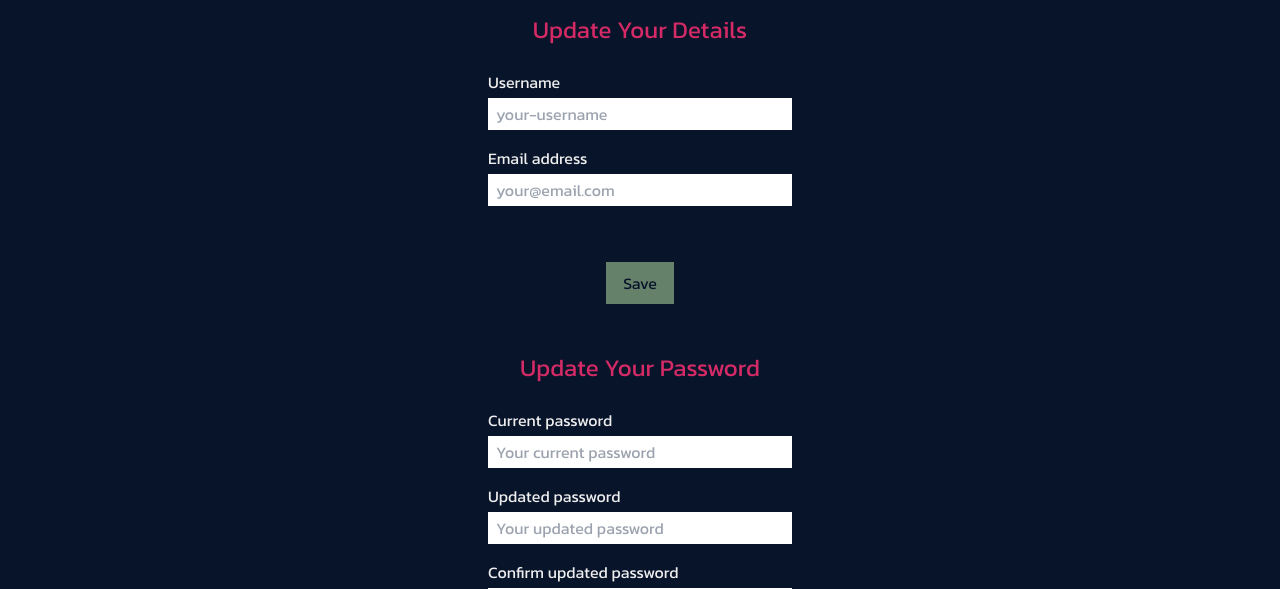
Scenario: Update password integration test: › On submit tests: › After rejected update tests: › It should show errors where updateUserPasswordById rejects
The width and height of the screenshot is (1280, 589).
Type "password12£" into the field titled "current password" at (640,452), box [488,436,792,468]
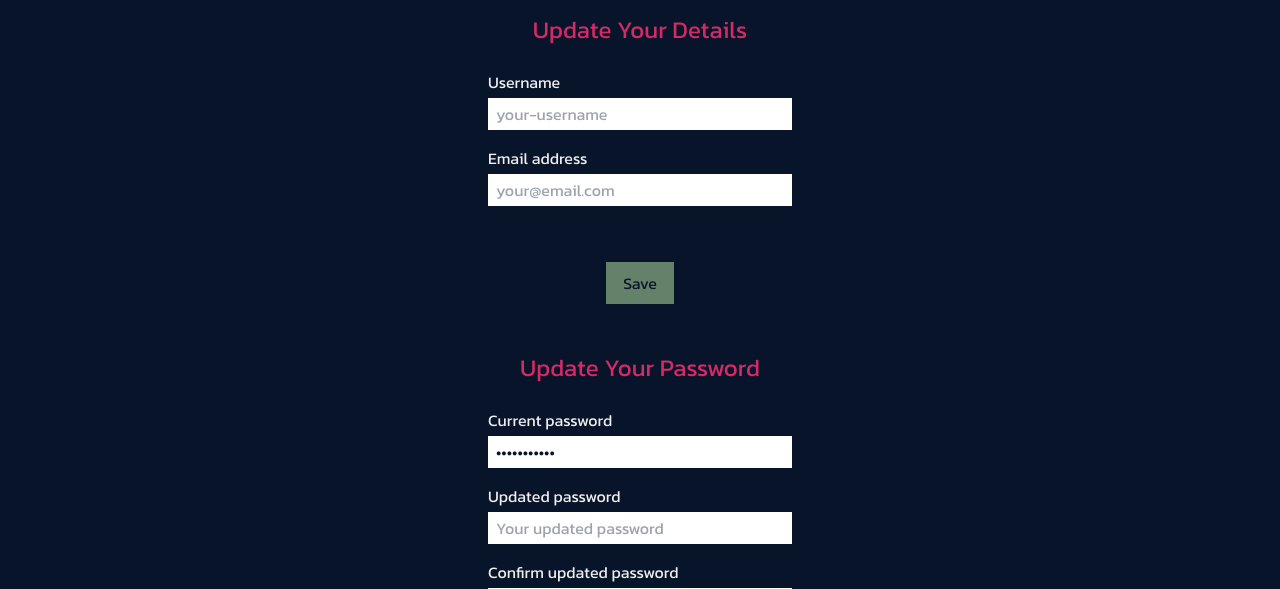
Type "password12£" into the field titled "updated password" at (640,528), box [488,512,792,544]
(page scrolled)
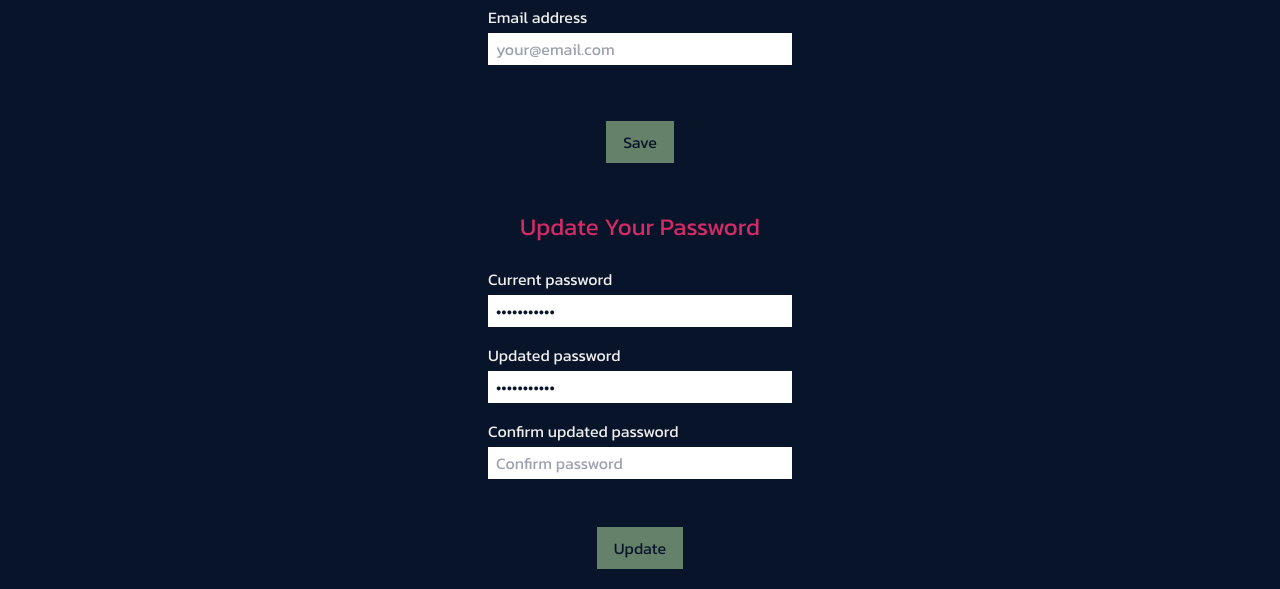
Type "password12£" into the field titled "confirm updated password" at (640,463), box [488,447,792,479]
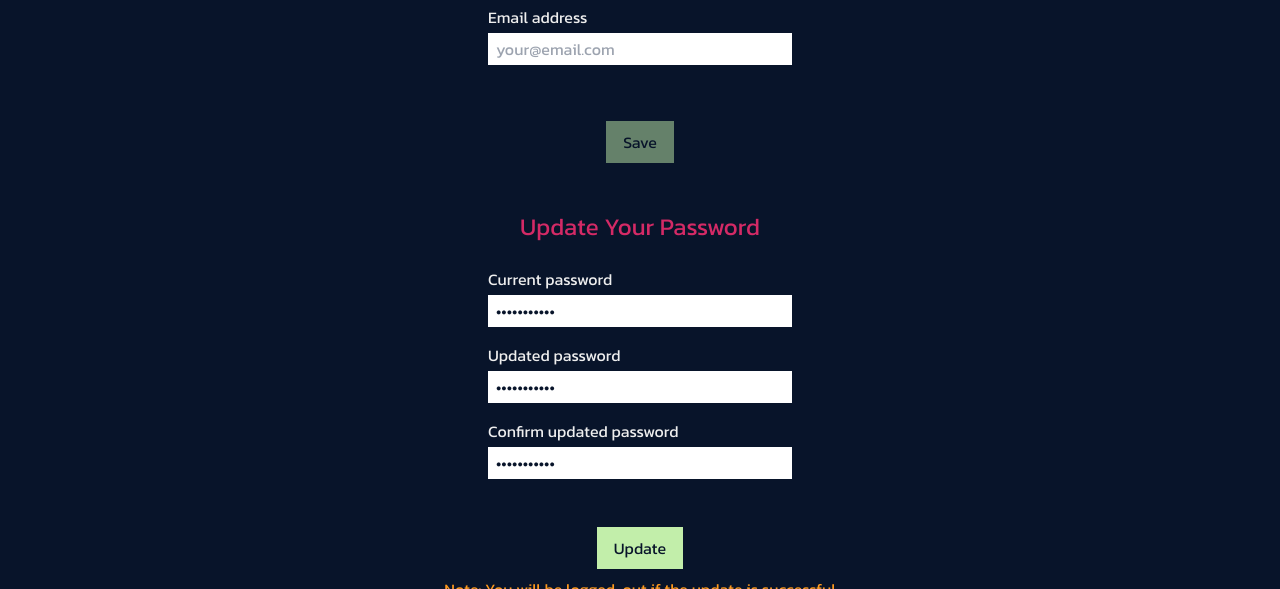
Click the button "Update" at (640,548), box [597,527,683,569]
(page scrolled)
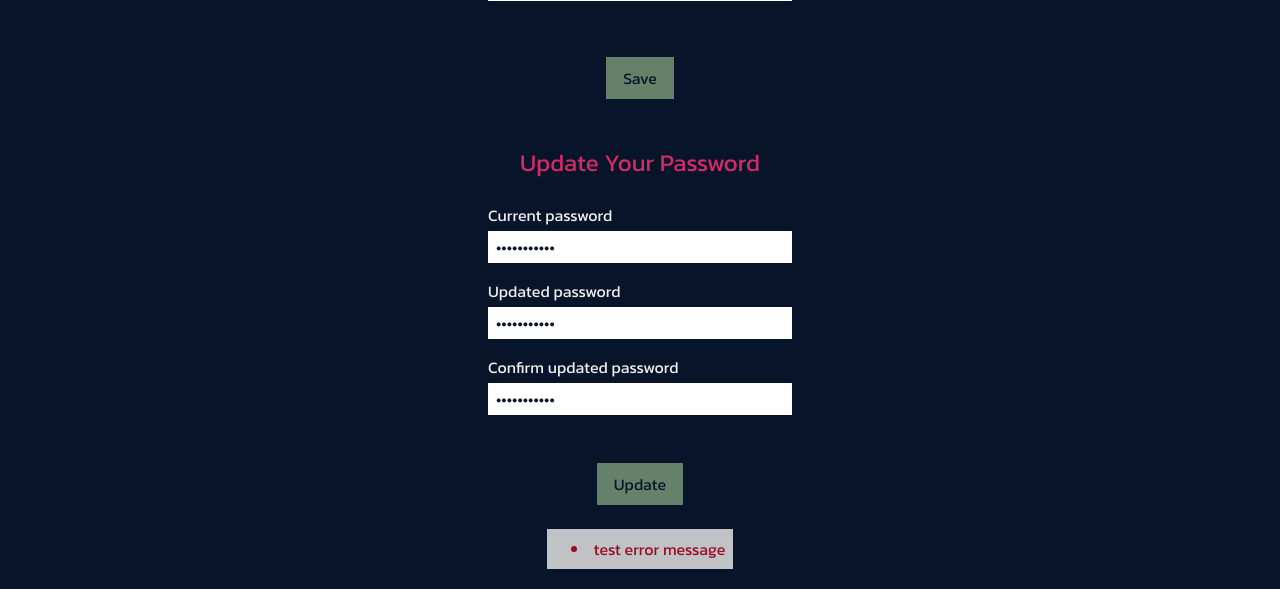
expect the list item "test error message" is shown: met, box [571,537,725,561]
